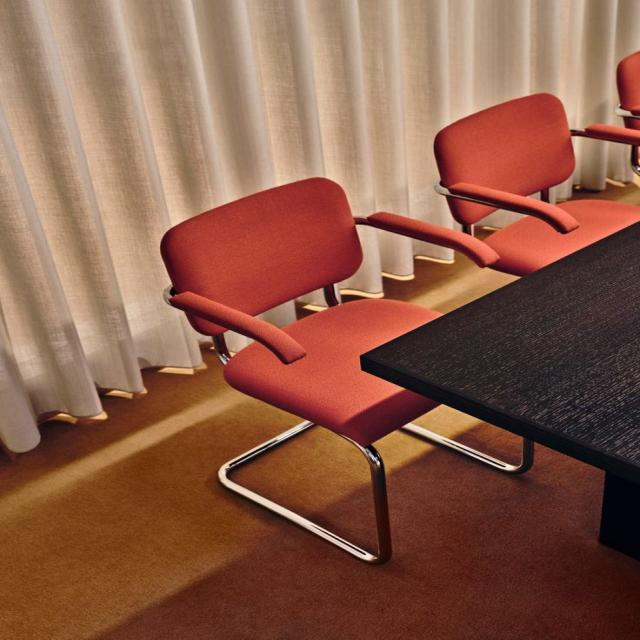obstacle: (158, 176, 534, 564), (358, 219, 639, 560)
